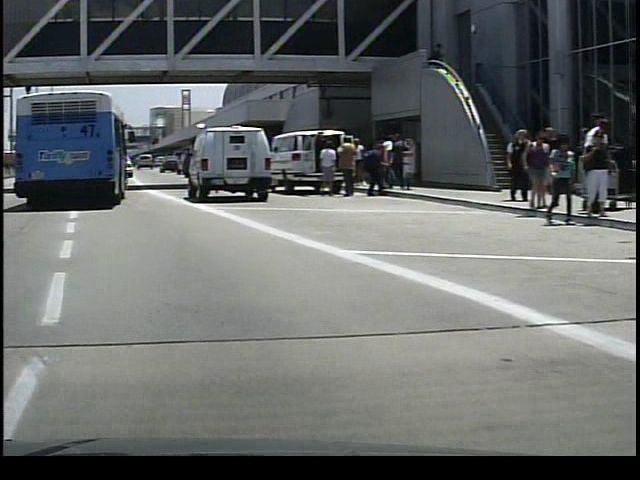person: (575, 117, 610, 220), (584, 127, 620, 218), (333, 137, 355, 199), (312, 134, 334, 195), (381, 132, 404, 189)
